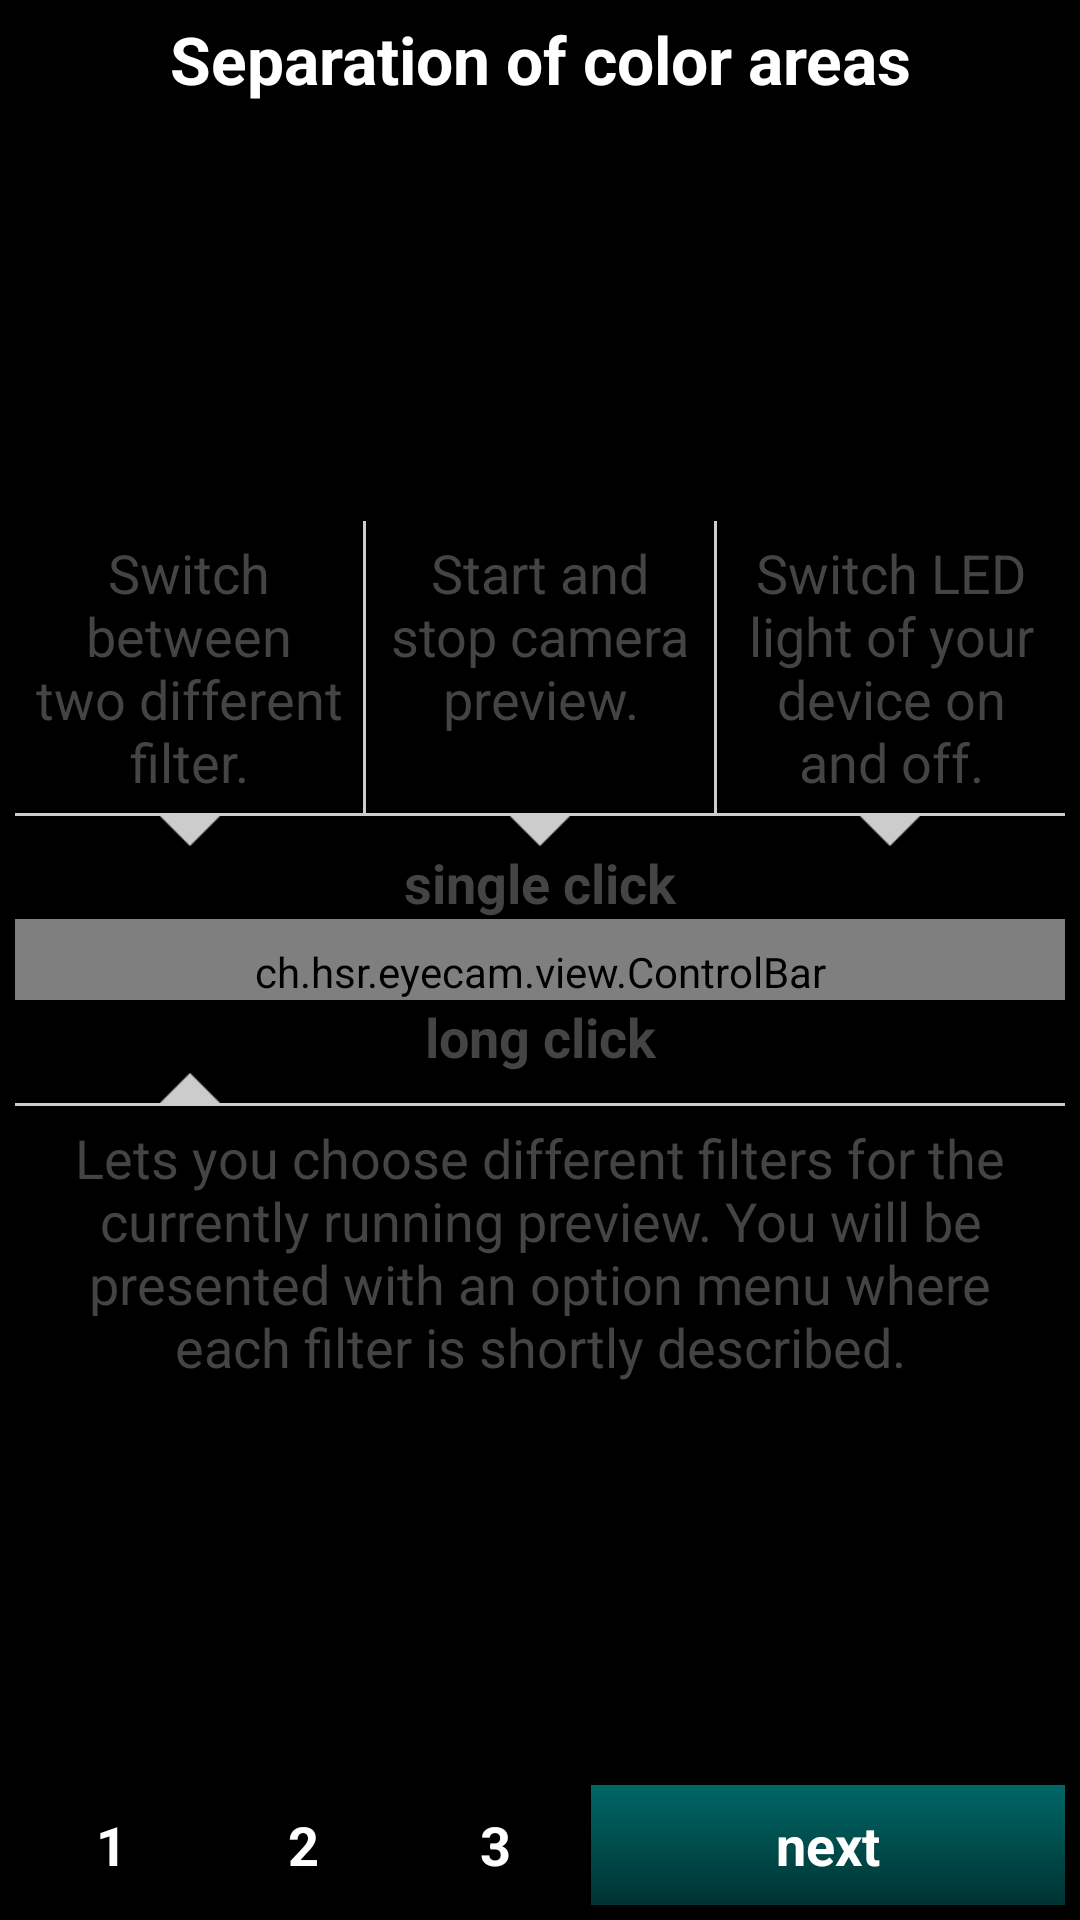

Icons on this 1080 × 1920 Android screen, each with its box as [x1,y1,x2,y2]:
arrow down: [160,816,220,846], [510,816,570,846], [860,816,920,846]
arrow up: [160,1073,220,1103]
